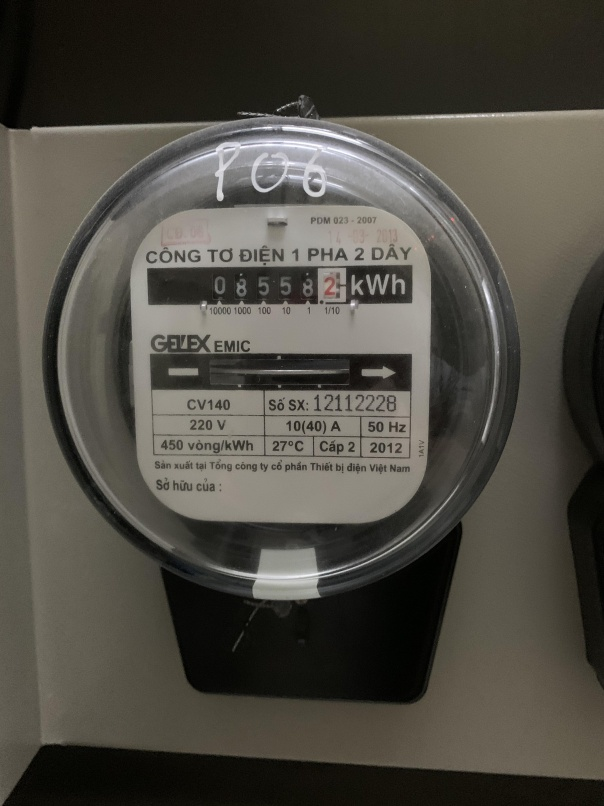counter: (148, 266, 415, 302)
electricity_meter: (41, 118, 520, 599)
